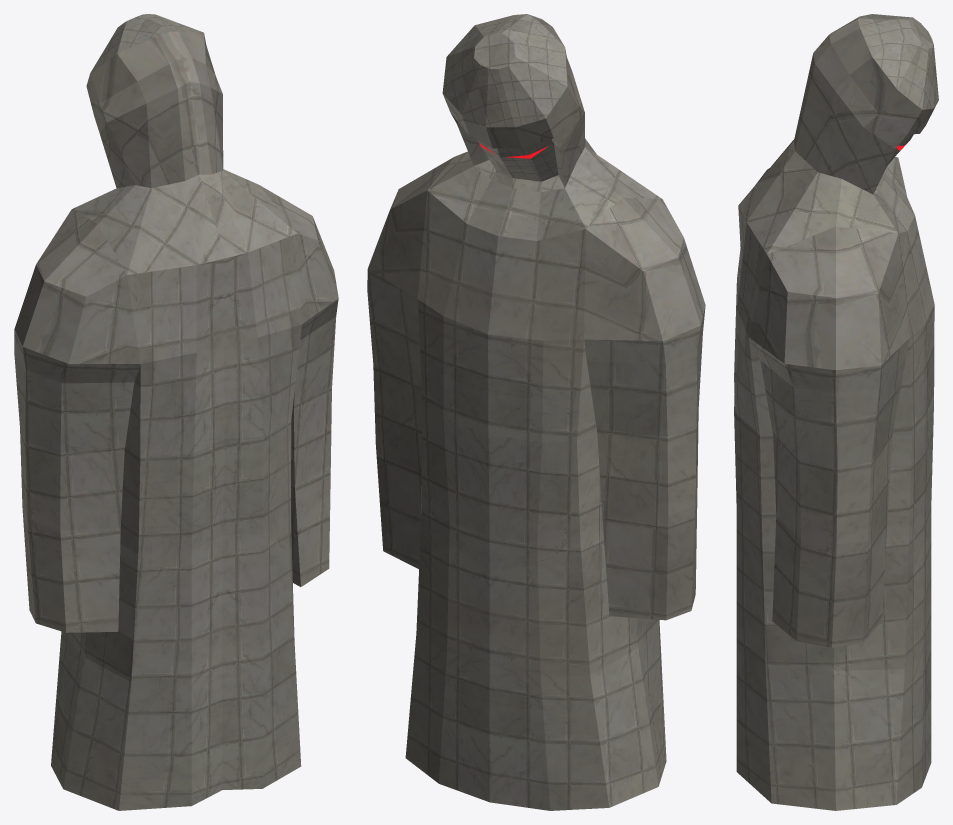
The model's file is Sclupture.glb.
The picture shows the model from 3 angles, left to right: view 1: azimuth 30°, elevation 25°; view 2: azimuth 150°, elevation 25°; view 3: azimuth 270°, elevation 25°; orthographic projection. The views are drawn at different scales.
Parts seen in each view (by area): view 1: G_angle; view 2: G_angle; view 3: G_angle.
Part boxes in pixels (x1,y1,x2,y2): G_angle: (14,14,338,810); G_angle: (367,14,705,810); G_angle: (734,14,938,810).
Size of what is drawn, in the model's own units: 2.01 by 4.5 by 1.12.
Materials: 2 (1 with a texture image).
